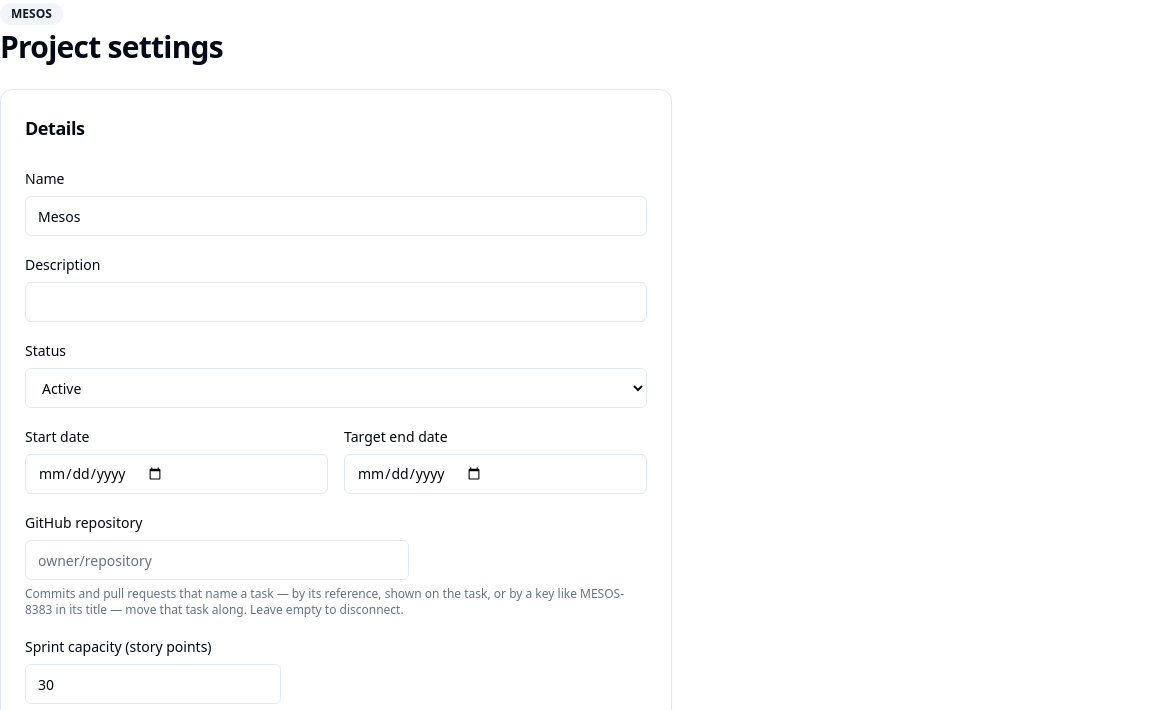
Test: Project settings: sprint capacity › will not save a capacity that is not a whole number of points
Replace the text in the field labelled "Sprint capacity (story points)" with "2.5" at (153, 684), box [25,664,281,704]
(page scrolled)
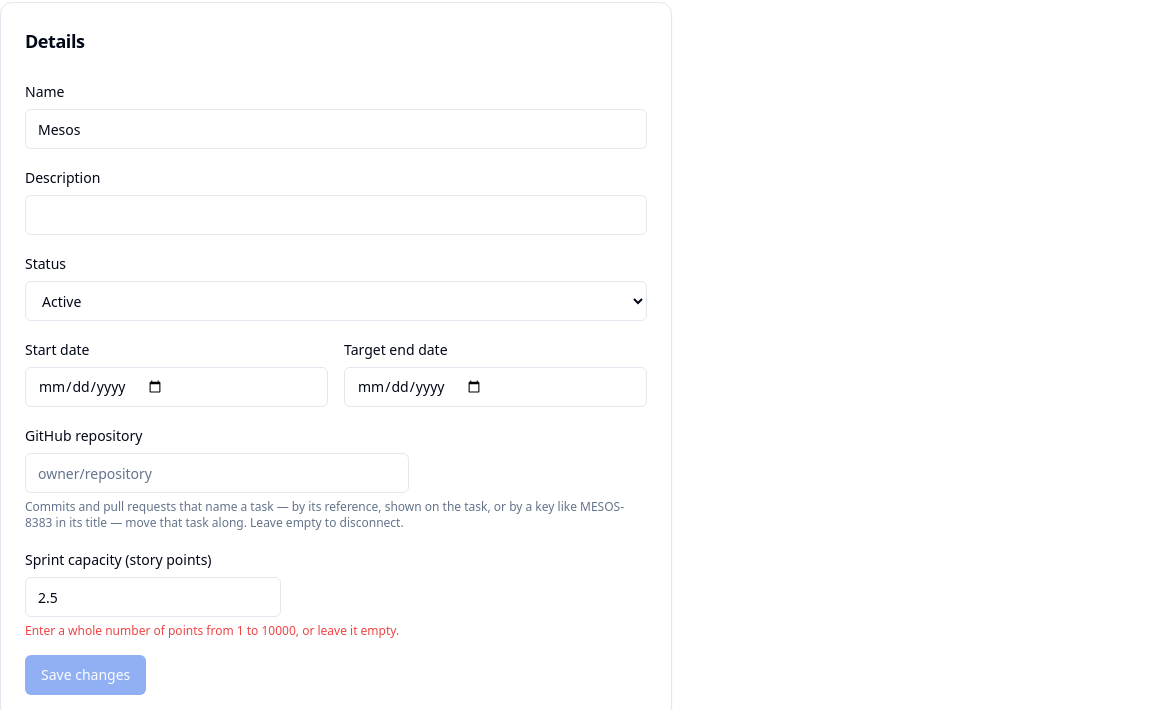
Result: the text "Enter a whole number of points" is shown at [25,622,399,639]
Result: the button "Save changes" is disabled at [25,655,146,695]
